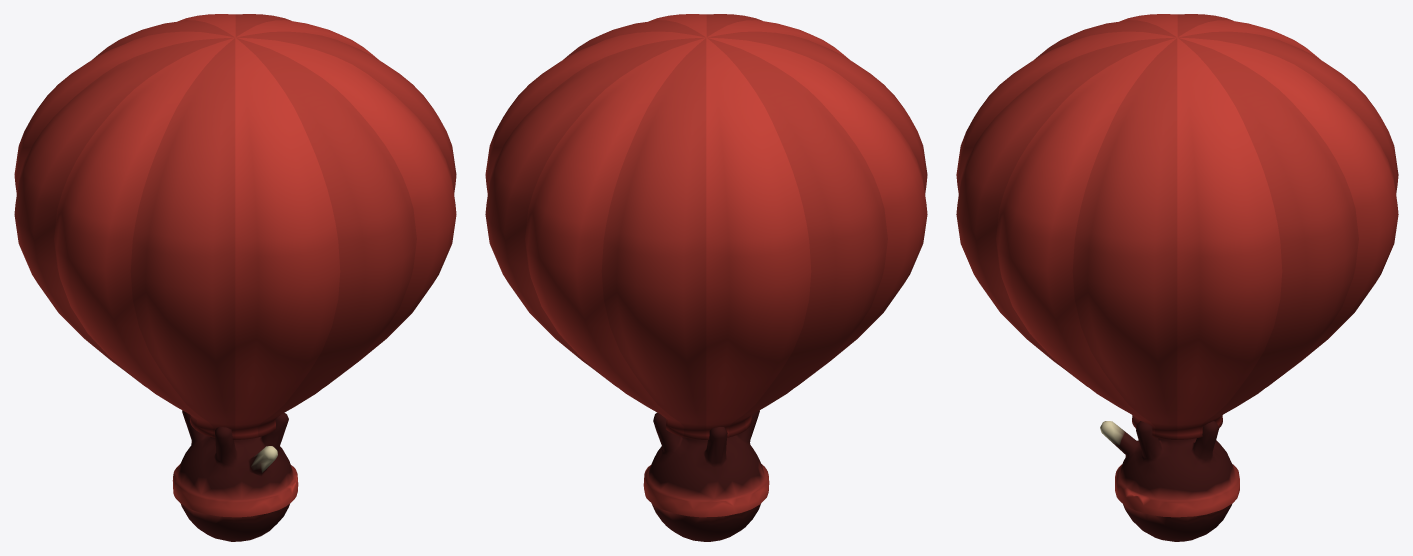
File: BalloonBomb.fbx
3 renders of one model, left to right at view 1: azimuth 30°, elevation 25°; view 2: azimuth 150°, elevation 25°; view 3: azimuth 270°, elevation 25°, orthographic.
Visible parts, largest first — view 1: Body; view 2: Body; view 3: Body.
Part boxes in pixels (x1,y1,x2,y2): Body: [14, 14, 456, 541]; Body: [485, 14, 927, 541]; Body: [956, 14, 1398, 541].
Size of the model in its own units: 0.8156 by 1.02 by 0.8156.
